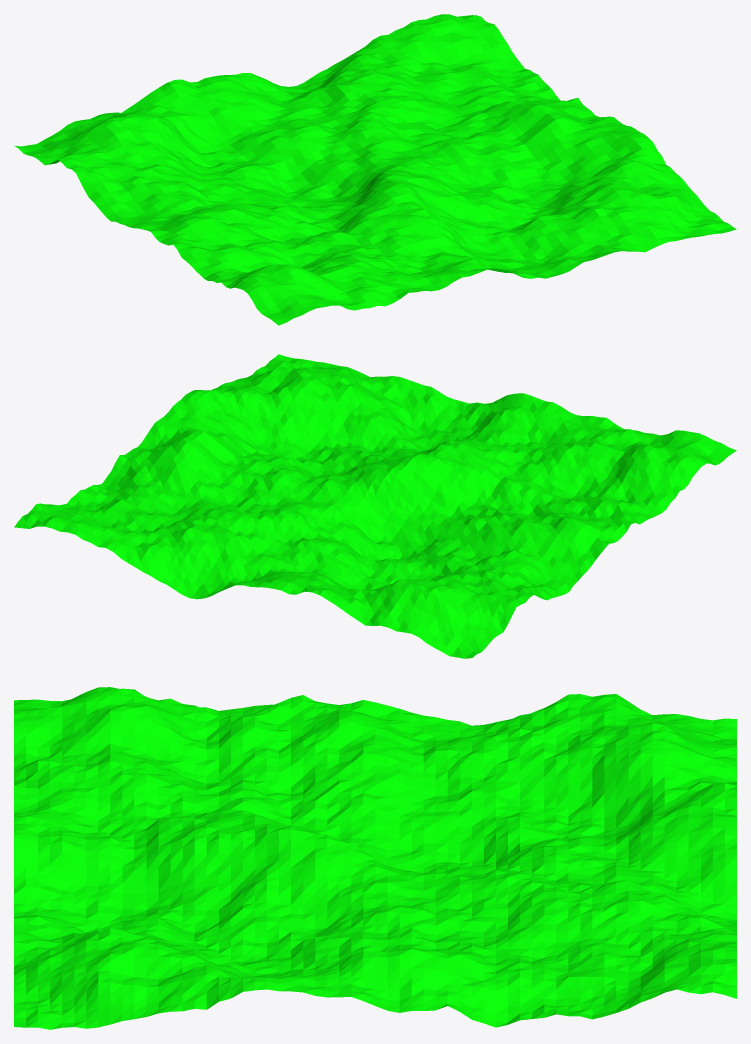
The model's file is terrain.obj.
3 renders of one model, top to bottom at view 1: azimuth 30°, elevation 25°; view 2: azimuth 150°, elevation 25°; view 3: azimuth 270°, elevation 25°, orthographic. The views are drawn at different scales.
Parts seen in each view (by area): view 1: terrain; view 2: terrain; view 3: terrain.
Boxes of the visible parts, left/top/right/bottom form: terrain: left=14, top=14, right=736, bottom=325; terrain: left=14, top=354, right=736, bottom=658; terrain: left=14, top=687, right=736, bottom=1029.
Bounding box in the file's own units: 6 × 0.6469 × 6.
